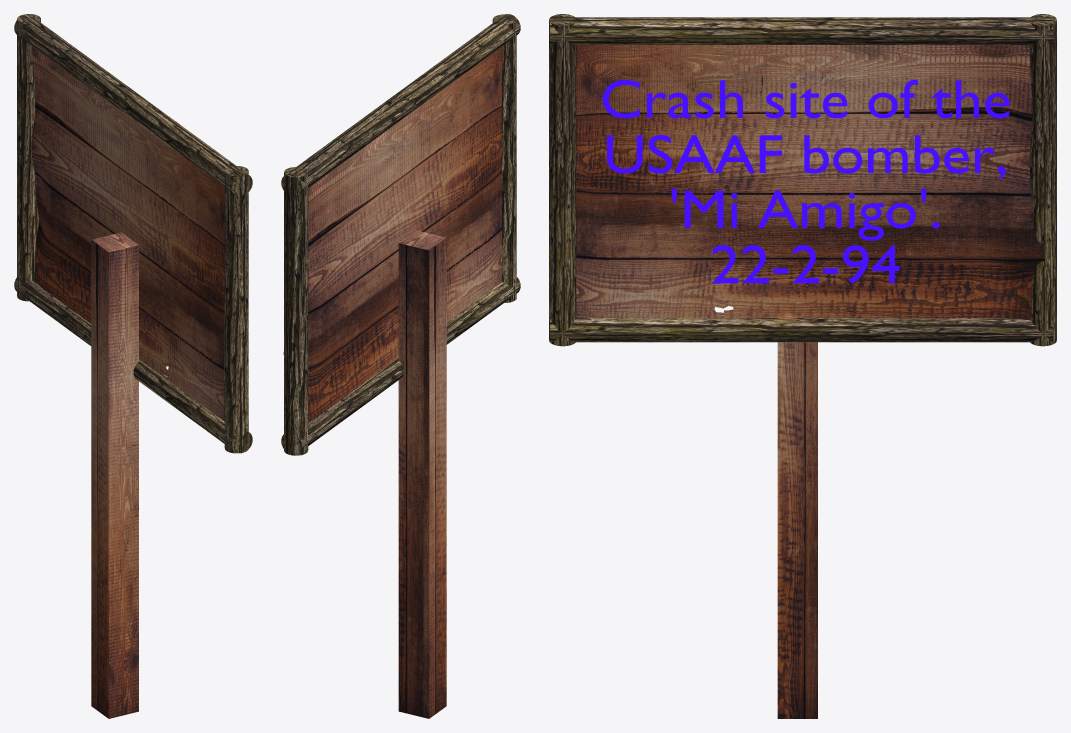
Rendered from MiAmigo.glb.
3 views of the same model, side by side, from view 1: azimuth 30°, elevation 25°; view 2: azimuth 150°, elevation 25°; view 3: azimuth 270°, elevation 25° (orthographic). The views are drawn at different scales.
Parts seen in each view (by area): view 1: Plane_Plane.001, Cube_Cube.001, Cylinder.003, Cylinder.002, Cylinder.004, Cylinder.001; view 2: Plane_Plane.001, Cube_Cube.001, Cylinder.004, Cylinder.003, Cylinder.002, Cylinder.001; view 3: Plane_Plane.001, Text, Cube_Cube.001, Cylinder.003, Cylinder.001, Cylinder.002, Cylinder.004.
Boxes of the visible parts, x1,y1,x2,y2 form: Plane_Plane.001: (31,46,224,421); Cube_Cube.001: (91,232,138,718); Cylinder.003: (14,14,252,195); Cylinder.002: (224,166,248,453); Cylinder.004: (17,14,40,301); Cylinder.001: (14,277,252,453); Plane_Plane.001: (283,45,503,422); Cube_Cube.001: (398,230,446,718); Cylinder.004: (284,167,308,455); Cylinder.003: (281,14,520,194); Cylinder.002: (492,14,516,302); Cylinder.001: (281,277,520,453); Plane_Plane.001: (576,44,1045,320); Text: (602,80,1009,283); Cube_Cube.001: (777,342,817,718); Cylinder.003: (550,17,1053,44); Cylinder.001: (550,314,1053,342); Cylinder.002: (549,14,576,346); Cylinder.004: (1029,14,1056,346).
Size of the model in its own units: 0.3738 by 4.6 by 3.01.
Materials: 4 (3 with a texture image).
